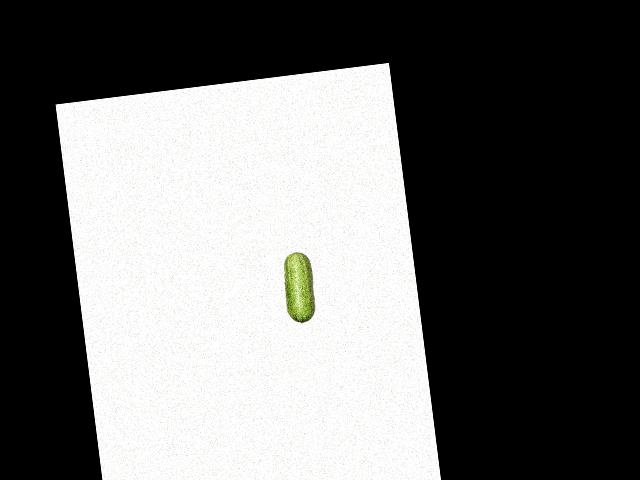cucumber: (280, 250, 318, 325)
